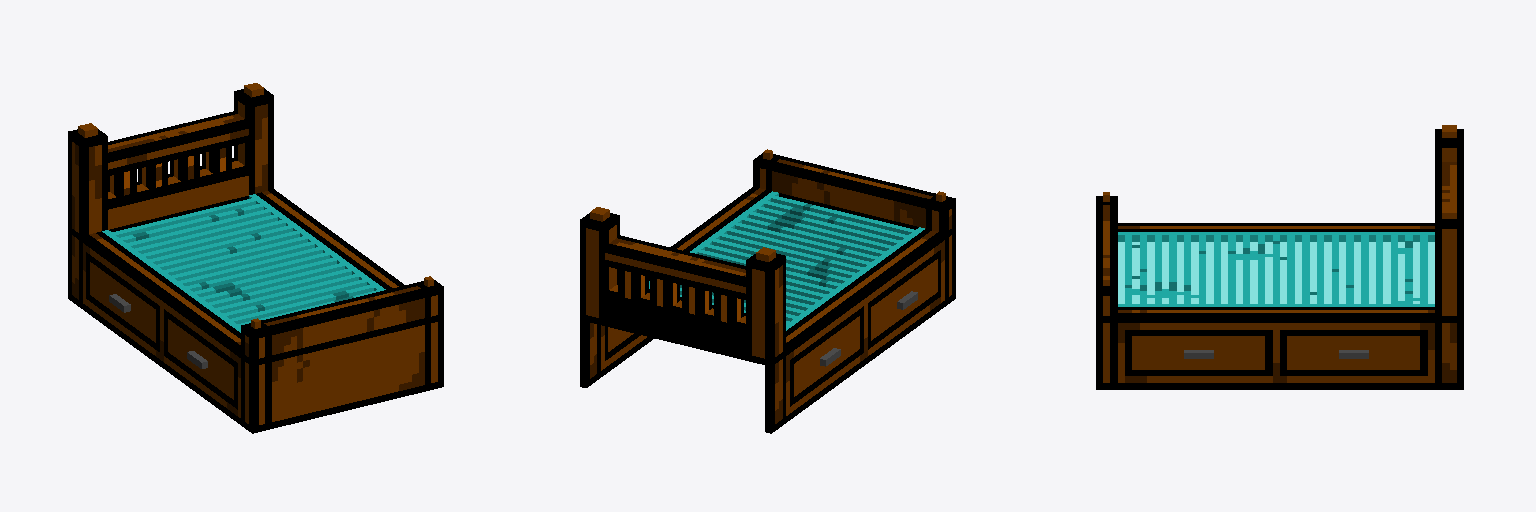
3 views of the same model, side by side, from view 1: azimuth 30°, elevation 25°; view 2: azimuth 150°, elevation 25°; view 3: azimuth 270°, elevation 25° (orthographic).
Parts seen in each view (by area): view 1: Bed2; view 2: Bed2; view 3: Bed2.
Boxes of the visible parts, <box> form: Bed2: <box>68,83,443,433</box>; Bed2: <box>580,149,955,433</box>; Bed2: <box>1096,125,1463,389</box>.
Bounding box in the file's own units: 3.2 × 2.6 × 5.
Materials: 1 (1 with a texture image).